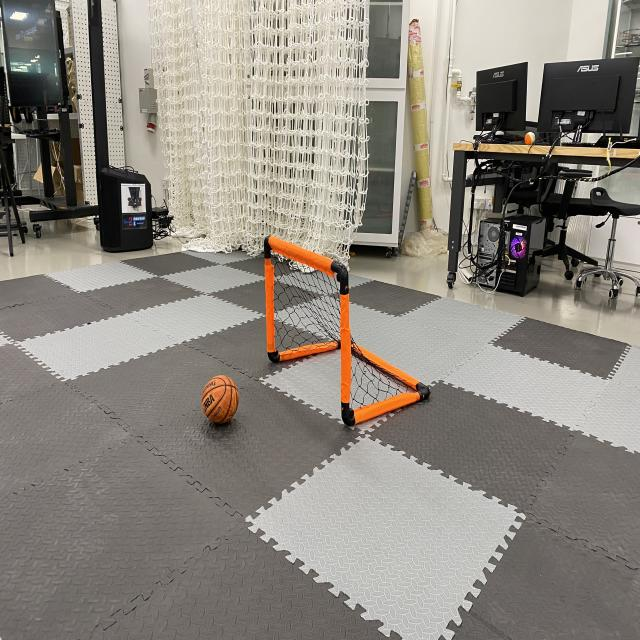ball: (198, 370, 244, 431)
gate: (260, 227, 435, 433)
